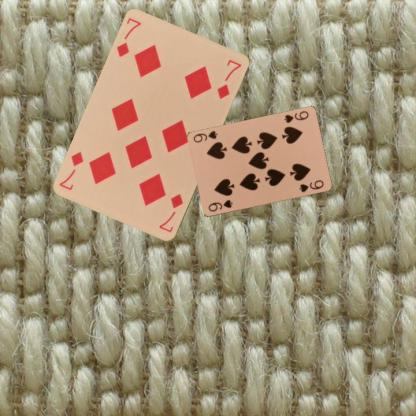7d: (114, 15, 142, 59), (157, 191, 184, 235)
9s: (281, 109, 310, 124), (206, 197, 233, 213)
